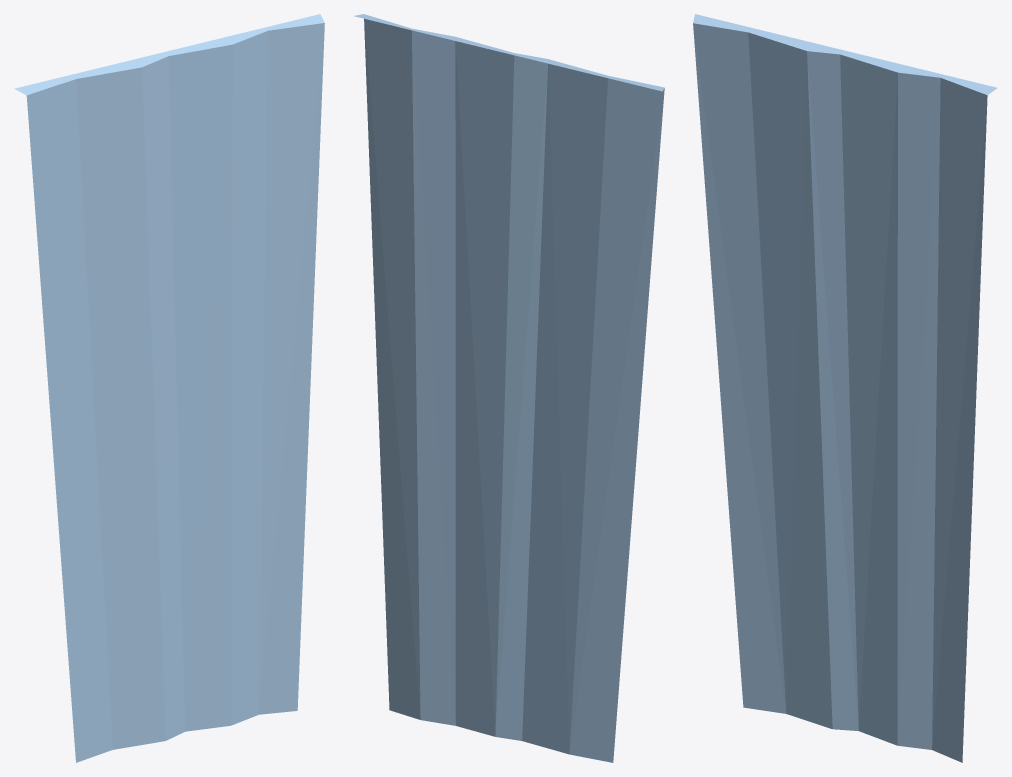
File: Waterfall_Angled_Medium_01.fbx
3 renders of one model, left to right at view 1: azimuth 30°, elevation 25°; view 2: azimuth 150°, elevation 25°; view 3: azimuth 330°, elevation 25°, orthographic. The views are drawn at different scales.
Visible parts, largest first — view 1: Waterfall_Angled_Medium_01; view 2: Waterfall_Angled_Medium_01; view 3: Waterfall_Angled_Medium_01.
Boxes of the visible parts, x1,y1,x2,y2 form: Waterfall_Angled_Medium_01: (14, 14, 324, 762); Waterfall_Angled_Medium_01: (354, 14, 664, 762); Waterfall_Angled_Medium_01: (693, 14, 997, 762).
Bounding box in the file's own units: 62.99 × 135 × 2.68.
